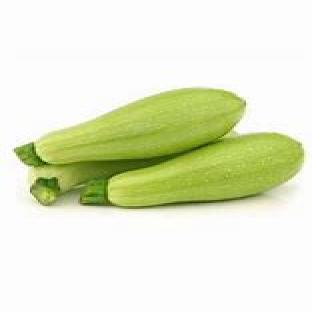Zucchini: (16, 88, 245, 166), (82, 134, 303, 207), (30, 156, 173, 205)
